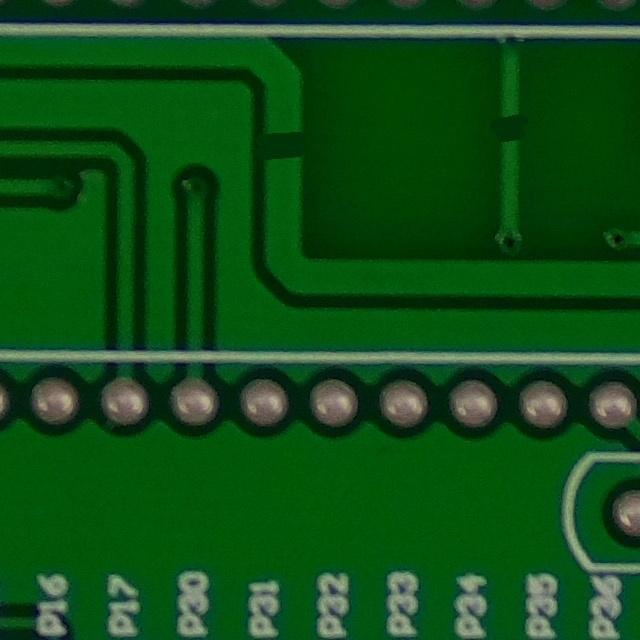open_circuit: (256, 117, 317, 181), (483, 104, 538, 155)
